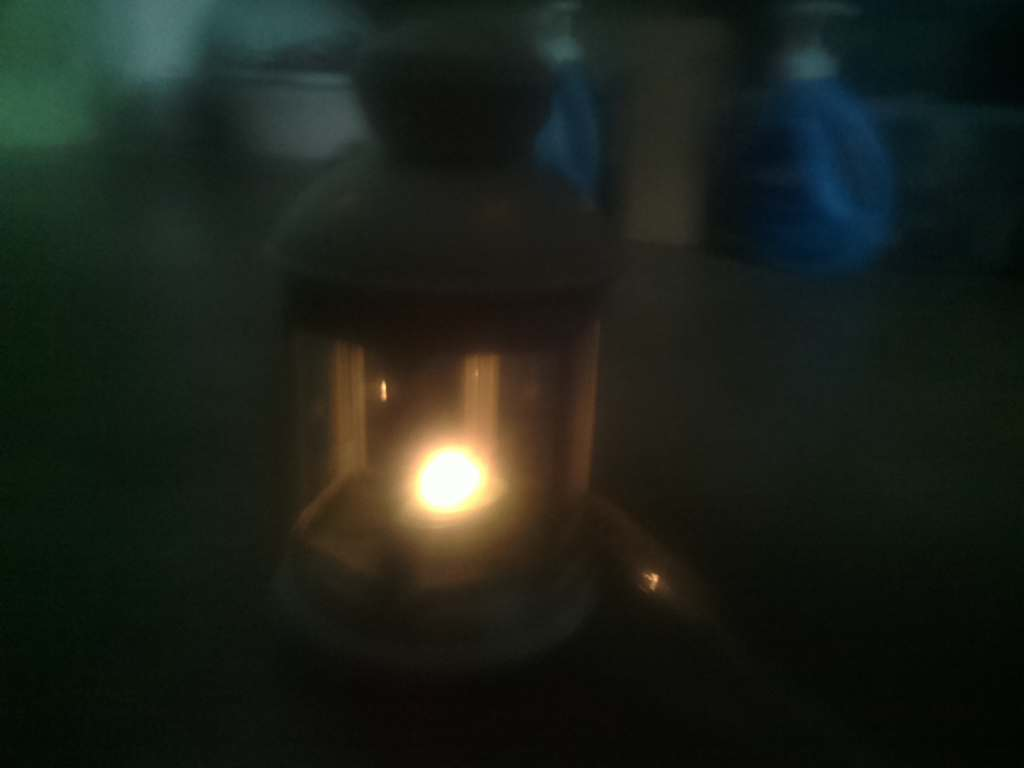fire: (384, 430, 519, 539)
